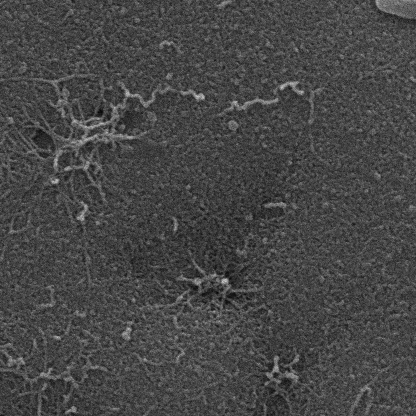regular: (376, 0, 416, 31)
